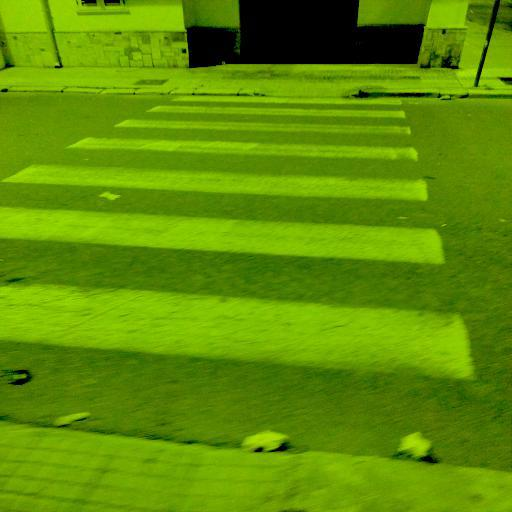crosswalk: (0, 200, 485, 394), (59, 114, 443, 168)
